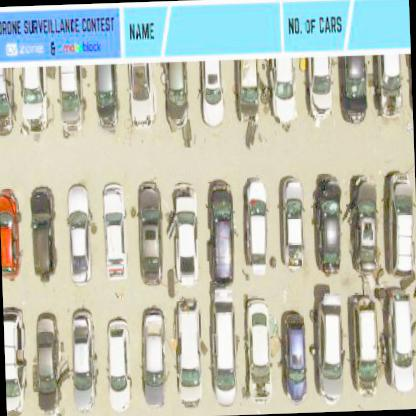car: (136, 178, 166, 290), (348, 172, 380, 276), (34, 309, 65, 415), (206, 180, 237, 285), (211, 290, 238, 408), (70, 309, 100, 414), (316, 294, 344, 404), (350, 294, 379, 398), (314, 177, 343, 280), (176, 298, 203, 408), (389, 172, 415, 286), (173, 182, 201, 286), (387, 291, 415, 394), (30, 184, 60, 278), (102, 183, 130, 282), (3, 306, 28, 416), (68, 186, 94, 286), (140, 306, 166, 404), (107, 316, 133, 412), (282, 310, 308, 404), (0, 188, 26, 278), (245, 179, 270, 272), (282, 178, 306, 272), (245, 297, 271, 376), (341, 58, 369, 126), (271, 59, 298, 125), (94, 65, 119, 133), (129, 64, 154, 132), (164, 60, 188, 130), (234, 59, 260, 123), (59, 67, 83, 136), (21, 66, 46, 128), (378, 57, 403, 117), (312, 60, 336, 120), (202, 64, 224, 128), (0, 68, 16, 138)
